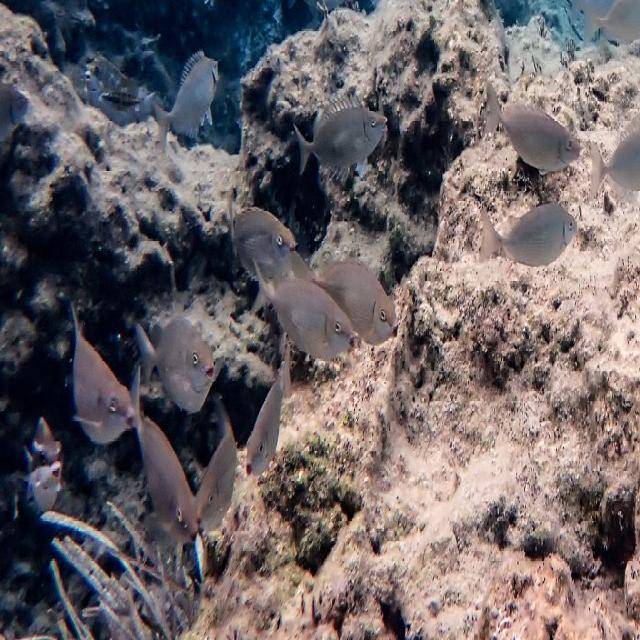Sokar Baligi: (482, 63, 586, 188), (290, 83, 390, 190), (470, 193, 588, 279), (149, 38, 228, 158)
